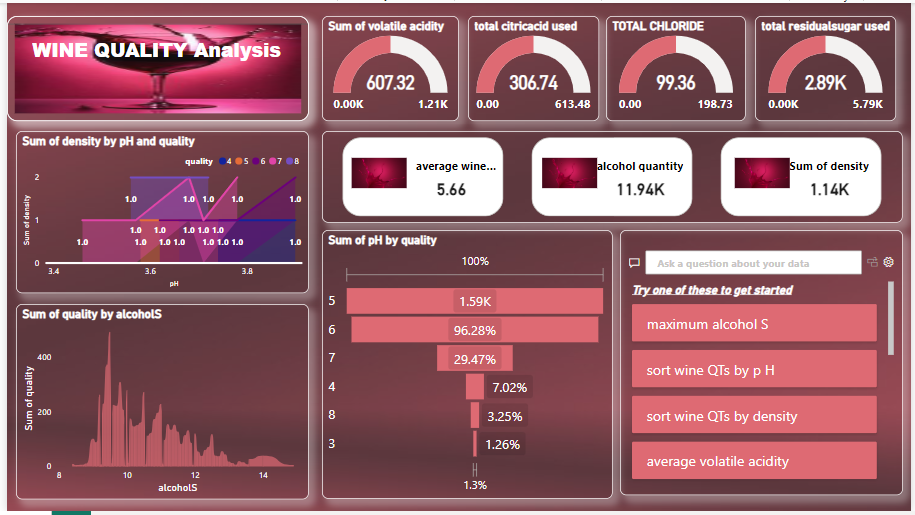

The page's visual inventory and layout, read from the dashboard file:
{"tool":"powerbi","page":{"name":"Page 1","canvas":[1280,720],"ordinal":0},"visuals":[{"type":"image","box":[0,18.4,428,148.8],"z":0},{"type":"textbox","box":[0,18.4,428,148.8],"z":1000},{"type":"stackedAreaChart","fields":{"Category":["WineQT.pH"],"Series":["WineQT.quality"],"Y":["Sum(WineQT.density)"]},"box":[13.4,181.4,414.9,230.1],"z":2000},{"type":"cardVisual","fields":{"Data":["WineQT.average wine quality","WineQT.alcohol quantity","Sum(WineQT.density)"]},"box":[446.5,181.4,823.5,130.4],"z":3000},{"type":"ribbonChart","fields":{"Category":["WineQT.alcoholS"],"Y":["Sum(WineQT.quality)"]},"box":[13.4,426.7,414.9,277.2],"z":4000},{"type":"qnaVisual","box":[868.8,321.7,401.1,375.6],"z":5000},{"type":"gauge","fields":{"Y":["WineQT.total residualsugar  used"]},"box":[1060.2,18.4,199.8,148.8],"z":7000},{"type":"gauge","fields":{"Y":["WineQT.total citricacid used"]},"box":[653.4,18.4,185.7,148.8],"z":8000},{"type":"gauge","fields":{"Y":["WineQT.TOTAL CHLORIDE"]},"box":[849,18.4,198.4,148.8],"z":9000},{"type":"gauge","fields":{"Y":["Sum(WineQT.volatile acidity)"]},"box":[446.5,18.4,194.2,148.8],"z":9001},{"type":"funnel","fields":{"Category":["WineQT.quality"],"Y":["Sum(WineQT.pH)"]},"box":[446.5,321.7,412.4,381.3],"z":9002}]}

Visuals, with their boxes in screenshot pixels (x1, y1, x2, y2), scaled from the page's 1280x720 canvas onto the 915x515 screenshot:
image: x1=0 y1=13 x2=306 y2=120
textbox: x1=0 y1=13 x2=306 y2=120
stackedAreaChart - WineQT.pH x WineQT.quality: x1=10 y1=130 x2=306 y2=294
cardVisual - WineQT.average wine quality x WineQT.alcohol quantity: x1=319 y1=130 x2=908 y2=223
ribbonChart - WineQT.alcoholS x Sum(WineQT.quality): x1=10 y1=305 x2=306 y2=503
qnaVisual: x1=621 y1=230 x2=908 y2=499
gauge - WineQT.total residualsugar  used: x1=758 y1=13 x2=901 y2=120
gauge - WineQT.total citricacid used: x1=467 y1=13 x2=600 y2=120
gauge - WineQT.TOTAL CHLORIDE: x1=607 y1=13 x2=749 y2=120
gauge - Sum(WineQT.volatile acidity): x1=319 y1=13 x2=458 y2=120
funnel - WineQT.quality x Sum(WineQT.pH): x1=319 y1=230 x2=614 y2=503
